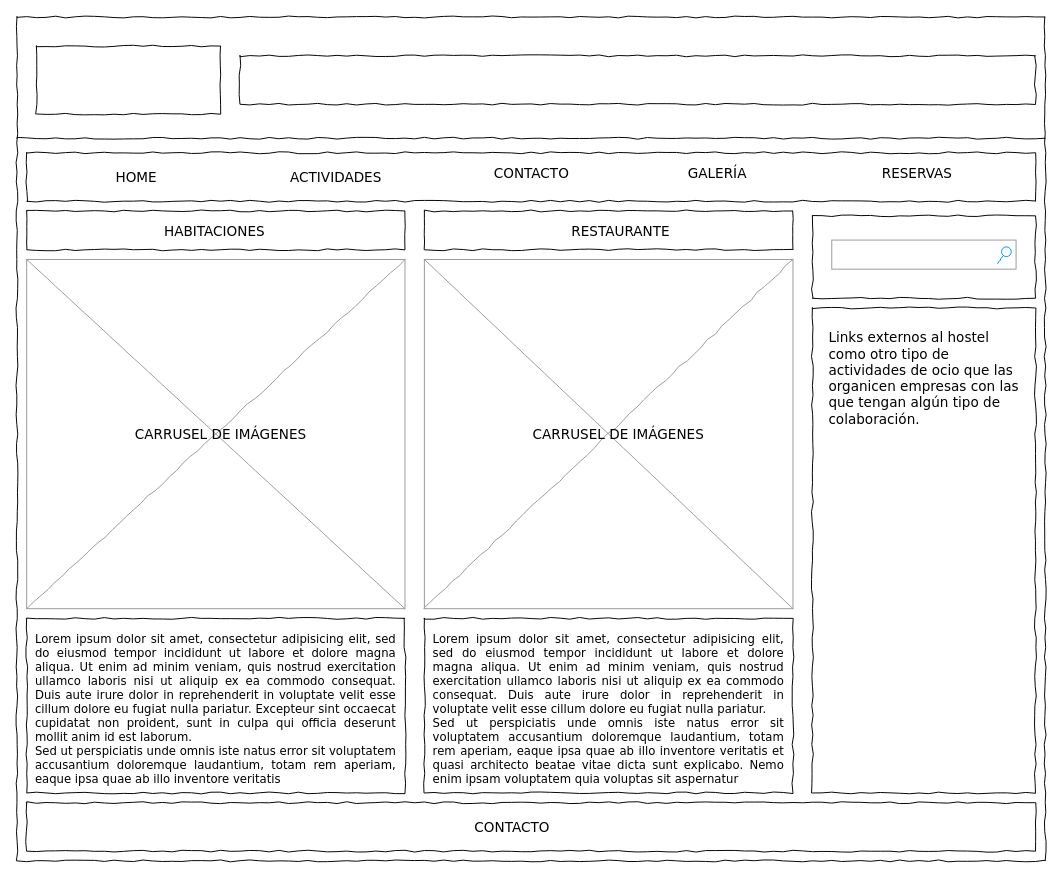
Image size: 1062x878. Some labels were removed from this diagram. Each missing label, with the centre of its shape:
"LOGO" belongs at pixel 128 79.
"NOMBRE DEL HOSTEL" belongs at pixel 637 79.
"Search" belongs at pixel 923 254.
